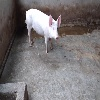heo: (24, 7, 62, 54)
